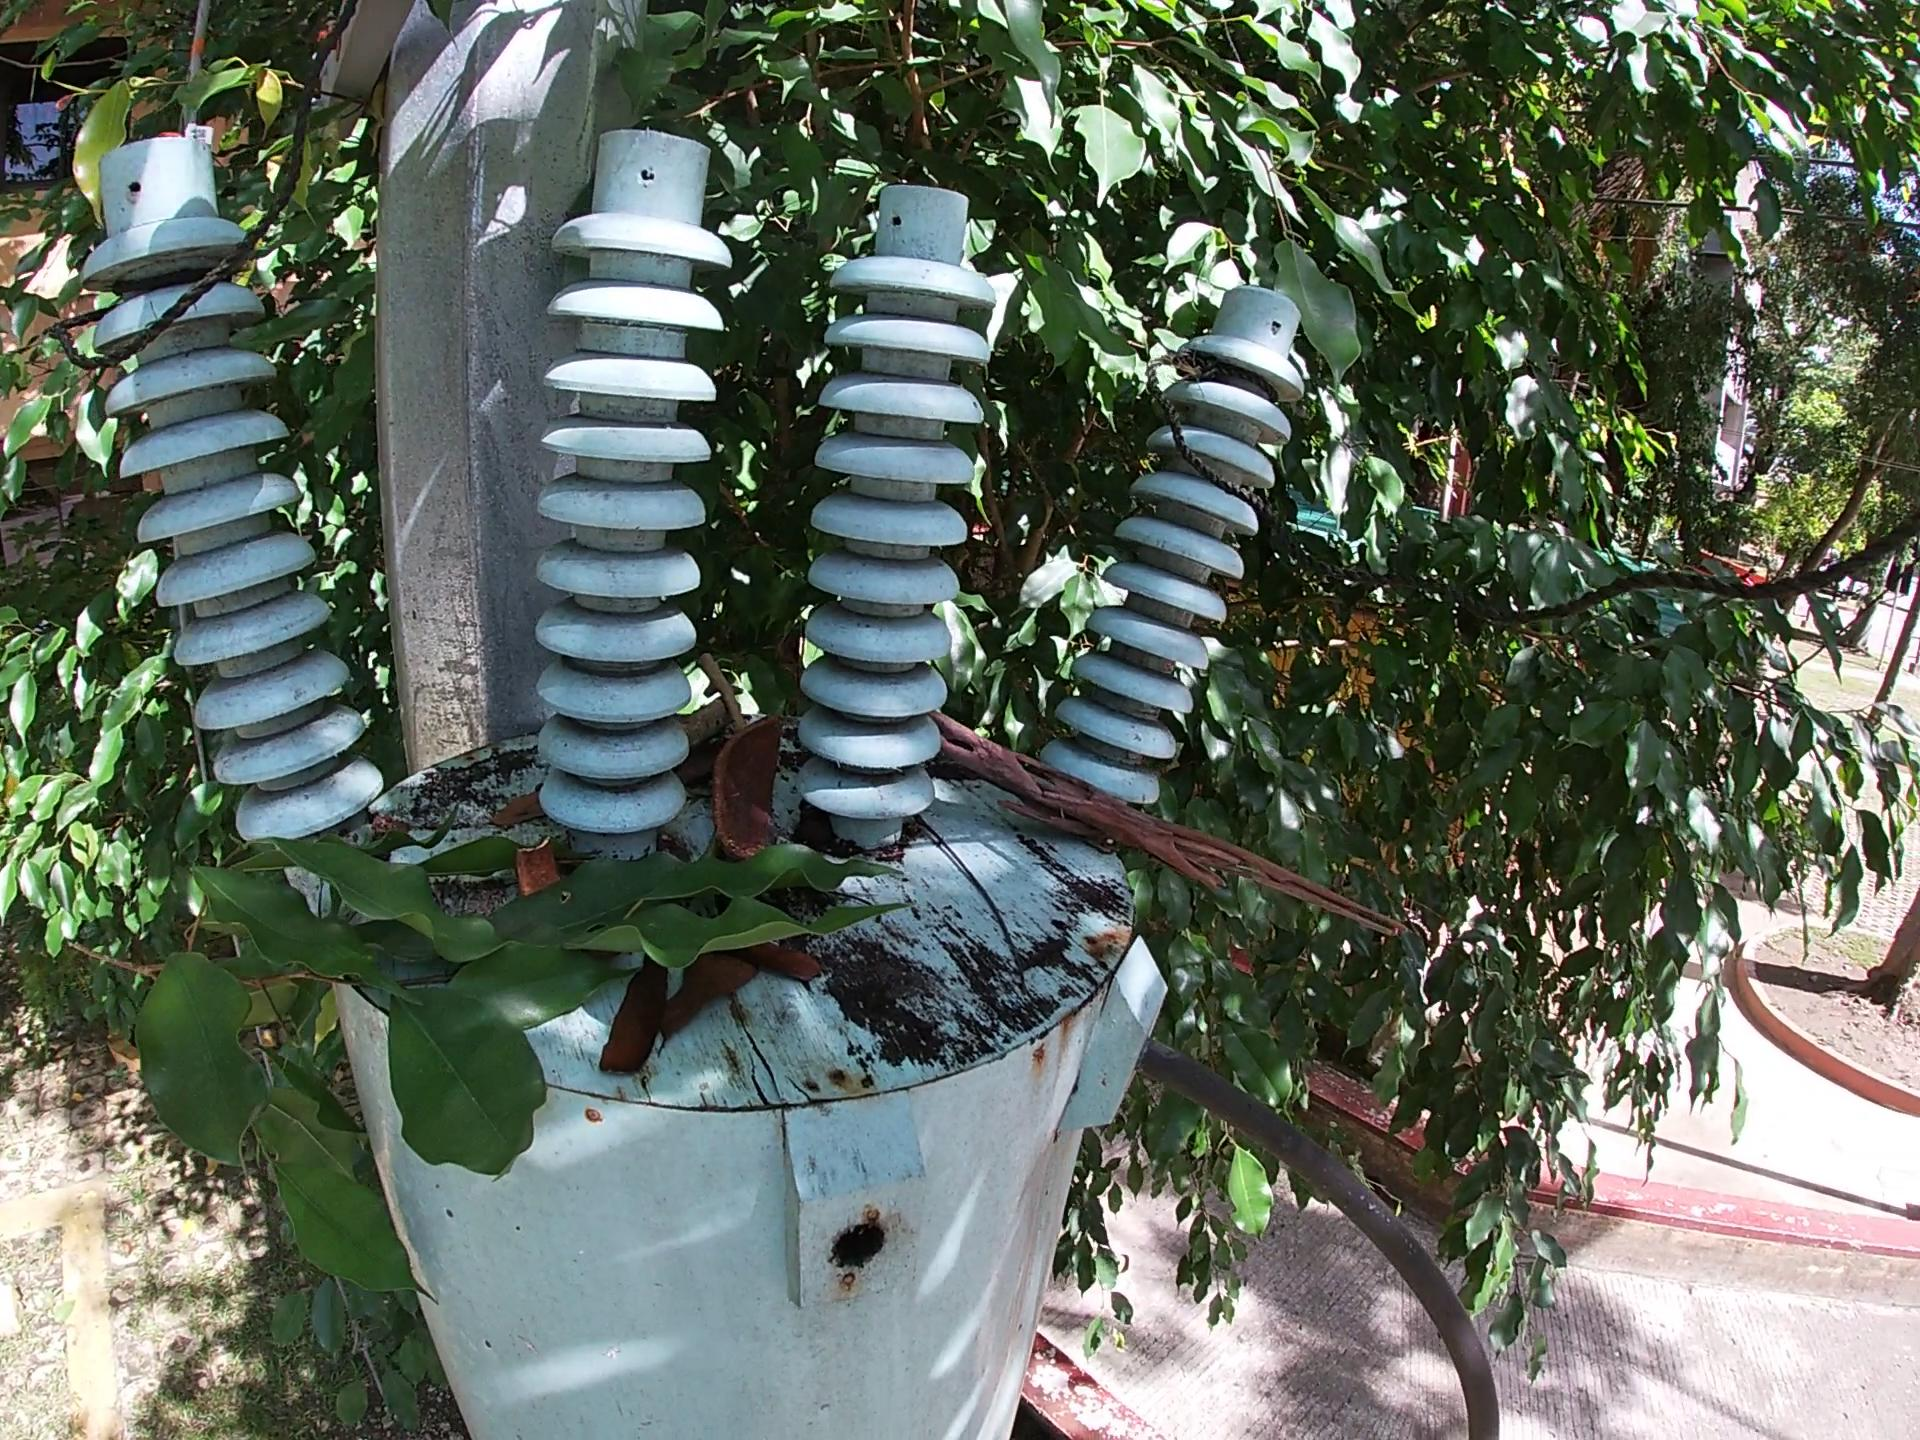branch with leaves: (129, 832, 927, 1313)
leaf: (655, 948, 760, 1062), (596, 951, 670, 1085), (723, 938, 827, 988), (478, 785, 547, 832)
mahogany fruit: (705, 715, 788, 862), (509, 835, 562, 895)
tree branch: (924, 706, 1417, 945), (692, 647, 751, 734), (680, 696, 735, 749)
